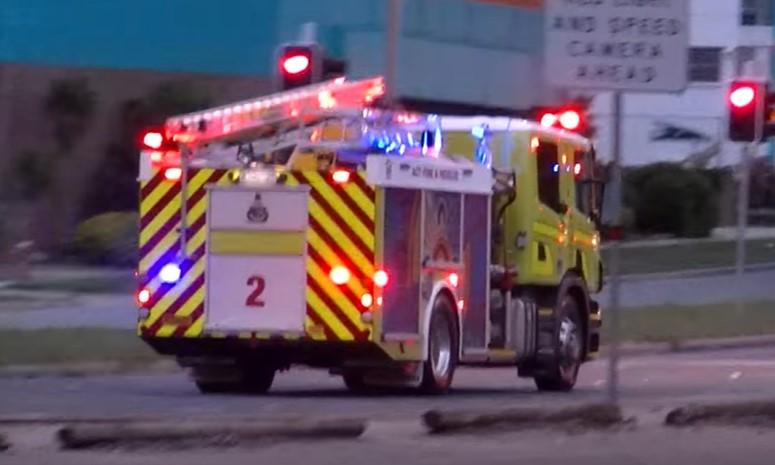firetruck_on: (137, 73, 610, 398)
